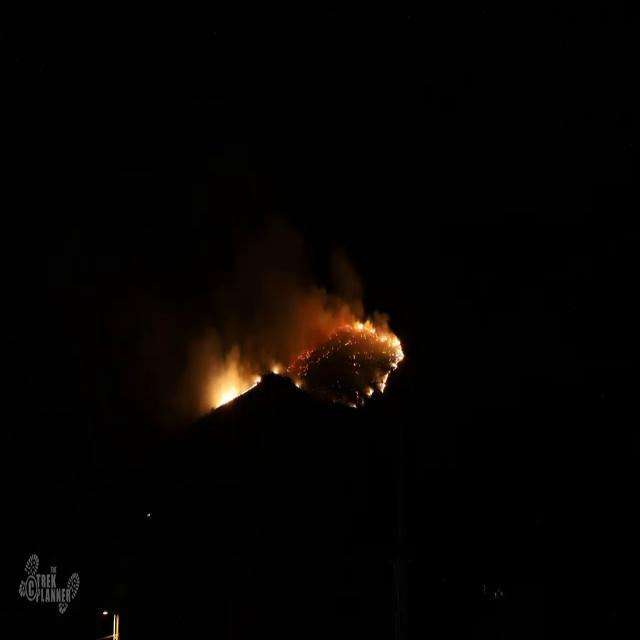Fire: (351, 319, 404, 367), (210, 375, 260, 413), (365, 370, 389, 400), (270, 362, 280, 375), (293, 378, 303, 388)
